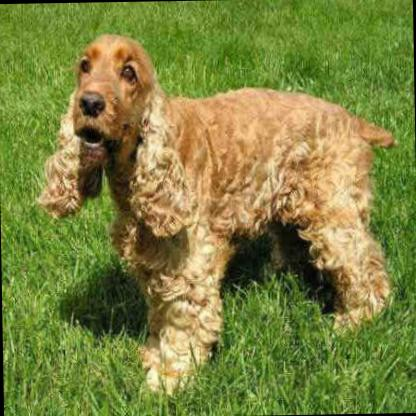Sussex_spaniel: (29, 25, 402, 396)
